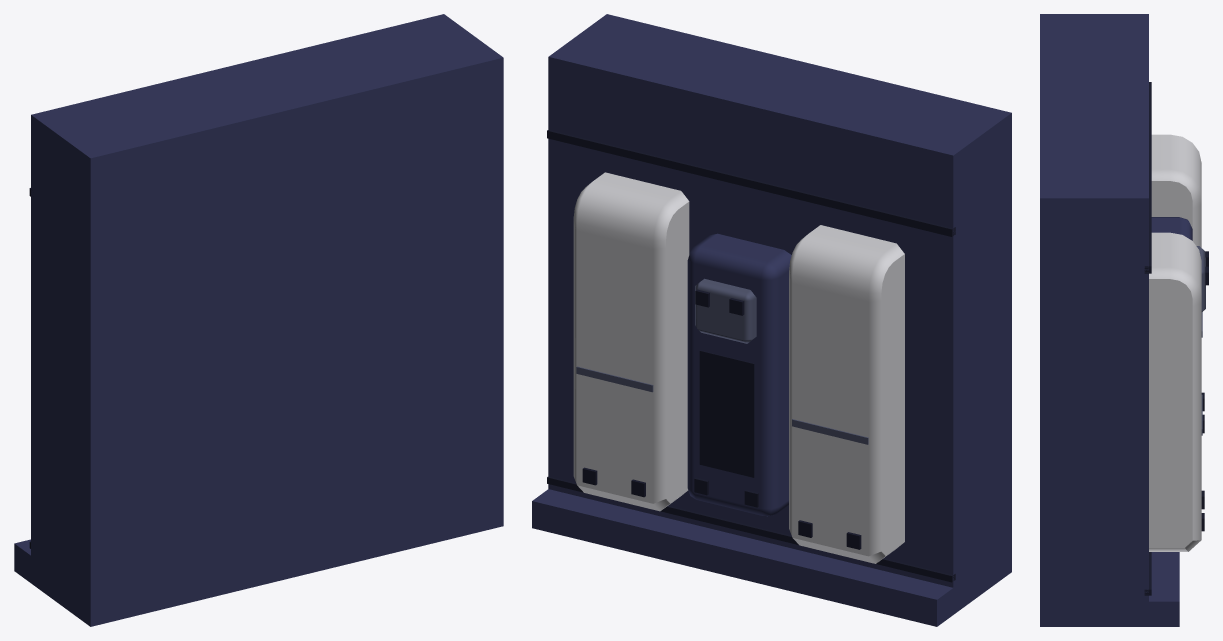
File: hull.upper.straight.l1.000.s1.glb
3 renders of one model, left to right at view 1: azimuth 30°, elevation 25°; view 2: azimuth 150°, elevation 25°; view 3: azimuth 270°, elevation 25°, orthographic. The views are drawn at different scales.
Visible parts, largest first — view 1: hull.upper.straight.l1.000.s1; view 2: hull.upper.straight.l1.000.s1; view 3: hull.upper.straight.l1.000.s1.
Part boxes in pixels (x1,y1,x2,y2): hull.upper.straight.l1.000.s1: (14,14,503,626); hull.upper.straight.l1.000.s1: (532,14,1011,626); hull.upper.straight.l1.000.s1: (1040,14,1208,626).
Bounding box in the file's own units: 1 × 1.08 × 0.387.
